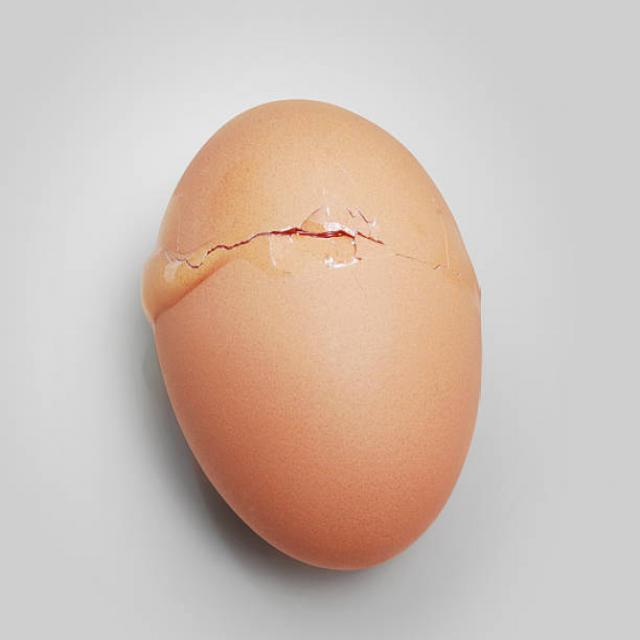biodegradable: (142, 99, 487, 573)
